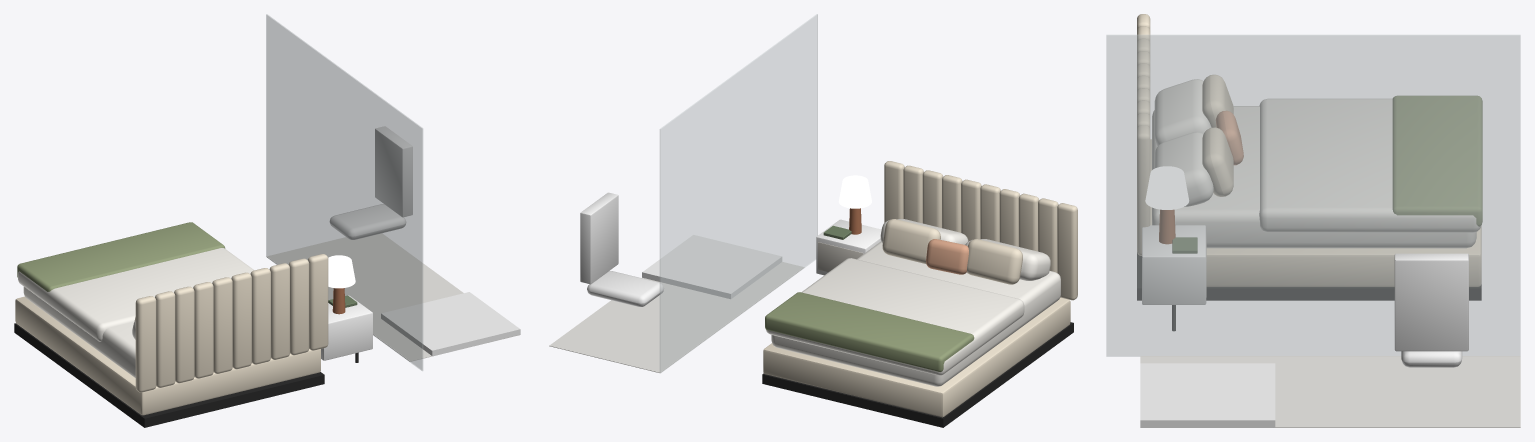
File: mob_suite.glb
3 renders of one model, left to right at view 1: azimuth 30°, elevation 25°; view 2: azimuth 150°, elevation 25°; view 3: azimuth 270°, elevation 25°, orthographic. The views are drawn at different scales.
Parts seen in each view (by area): view 1: mob_suite_tecido_areia, mob_suite_vidro_box, mob_suite_louca, mob_suite_vinil, mob_suite_madeira; view 2: mob_suite_tecido_areia, mob_suite_vidro_box, mob_suite_vinil, mob_suite_louca, mob_suite_madeira; view 3: mob_suite_vidro_box, mob_suite_tecido_areia, mob_suite_vinil, mob_suite_louca, mob_suite_madeira.
Part boxes in pixels (x1=…): mob_suite_tecido_areia: x1=14, y1=222, x2=328, y2=427; mob_suite_vidro_box: x1=266, y1=14, x2=423, y2=371; mob_suite_louca: x1=329, y1=126, x2=520, y2=356; mob_suite_vinil: x1=266, y1=233, x2=520, y2=361; mob_suite_madeira: x1=321, y1=255, x2=372, y2=362; mob_suite_tecido_areia: x1=762, y1=161, x2=1077, y2=427; mob_suite_vidro_box: x1=659, y1=14, x2=817, y2=372; mob_suite_vinil: x1=549, y1=262, x2=804, y2=372; mob_suite_louca: x1=580, y1=192, x2=782, y2=306; mob_suite_madeira: x1=816, y1=175, x2=881, y2=275; mob_suite_vidro_box: x1=1106, y1=34, x2=1520, y2=356; mob_suite_tecido_areia: x1=1137, y1=14, x2=1482, y2=300; mob_suite_vinil: x1=1140, y1=356, x2=1520, y2=427; mob_suite_louca: x1=1140, y1=253, x2=1468, y2=427; mob_suite_madeira: x1=1142, y1=166, x2=1206, y2=331.
Size of the model in its own units: 3.46 by 2.1 by 2.45.
